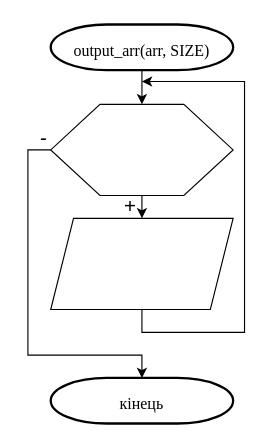
Image size: 274x447. Some labels were removed from this diagram. The box of each missing label's shape, as (x1, y1, x2, y2) in pixels:
i := 0, SIZE, 1: (50, 103, 233, 196)
вивести arr[i]: (50, 217, 233, 310)
